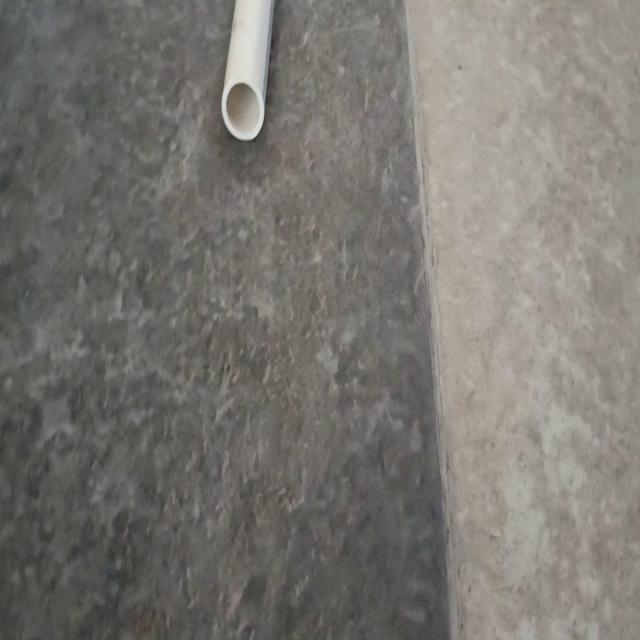Cube: (219, 0, 274, 141)
